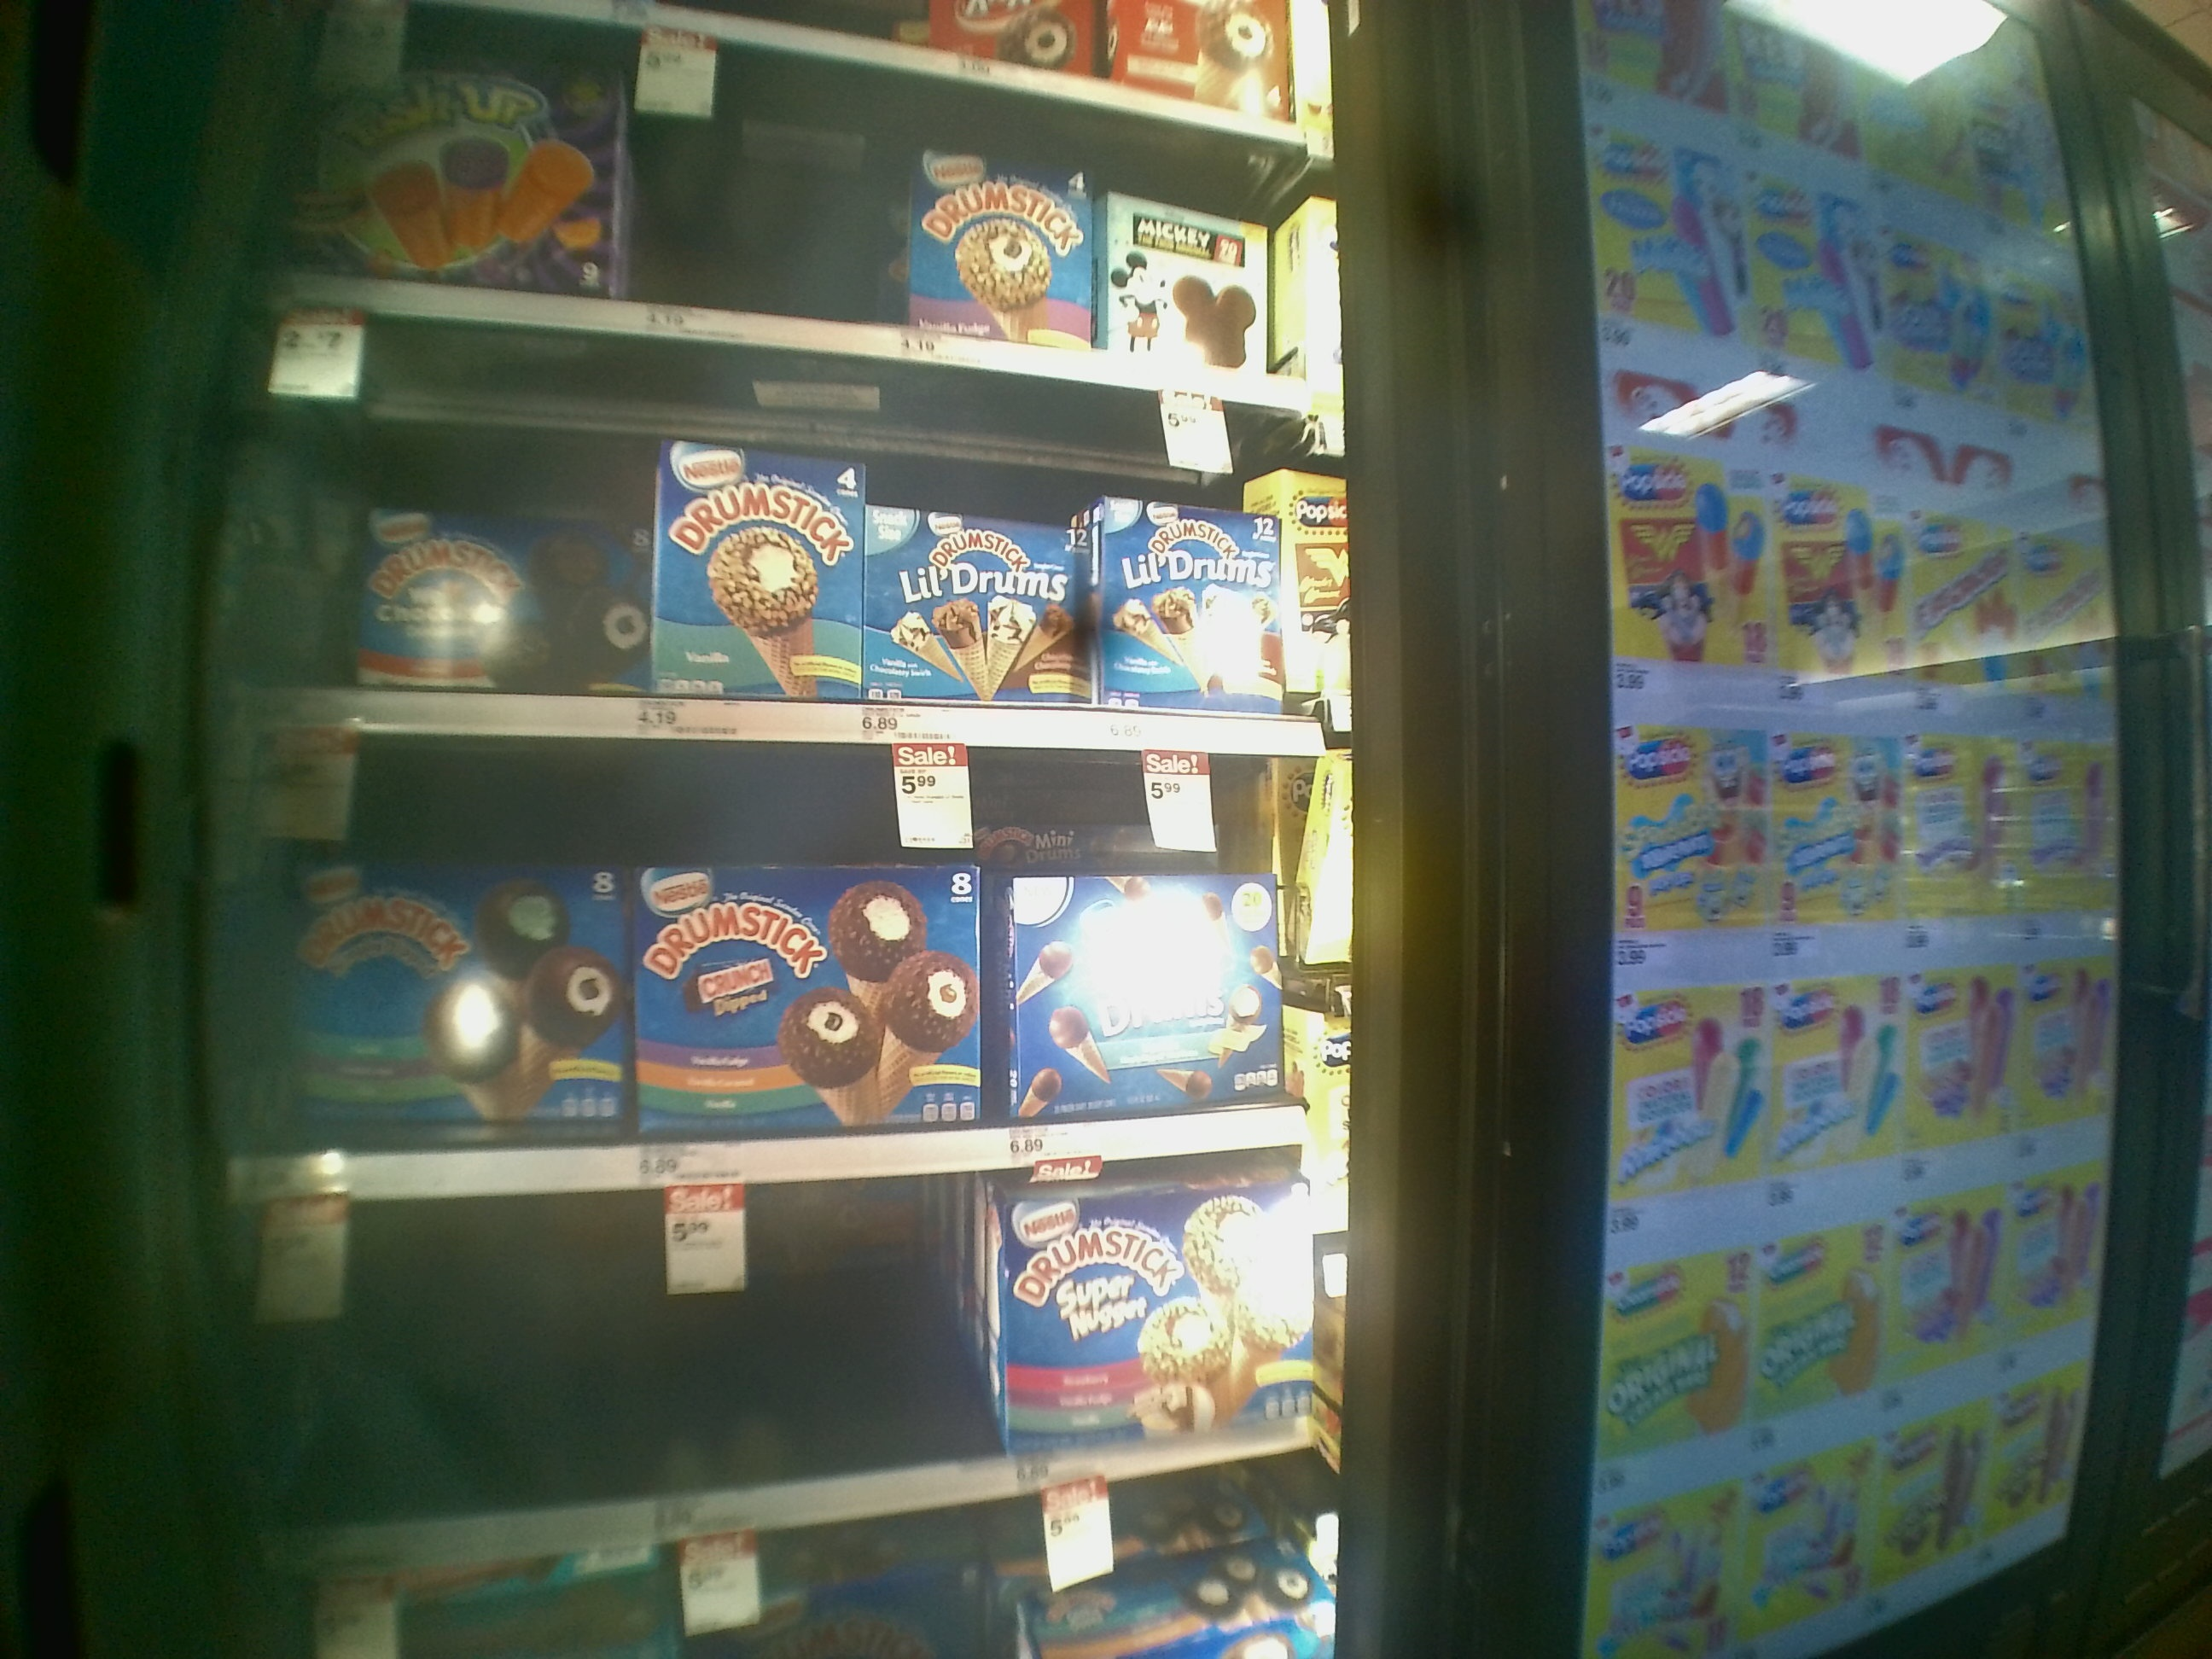shelf: (233, 737, 1348, 1213), (240, 1143, 1350, 1570), (249, 310, 1343, 734)
